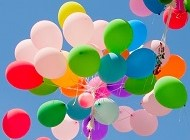Balloon: (154, 76, 187, 108), (68, 45, 100, 78), (63, 12, 93, 47), (5, 60, 42, 88), (126, 48, 159, 79), (33, 48, 67, 78), (104, 18, 133, 53), (30, 19, 62, 50), (2, 108, 31, 139), (37, 100, 68, 128), (130, 109, 159, 136), (99, 53, 125, 83), (94, 98, 119, 125), (164, 4, 188, 29), (78, 92, 93, 108)
